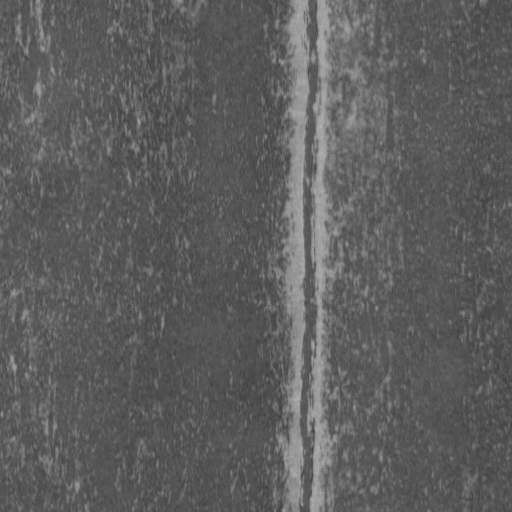zongxiangliewen: (295, 1, 322, 510)
